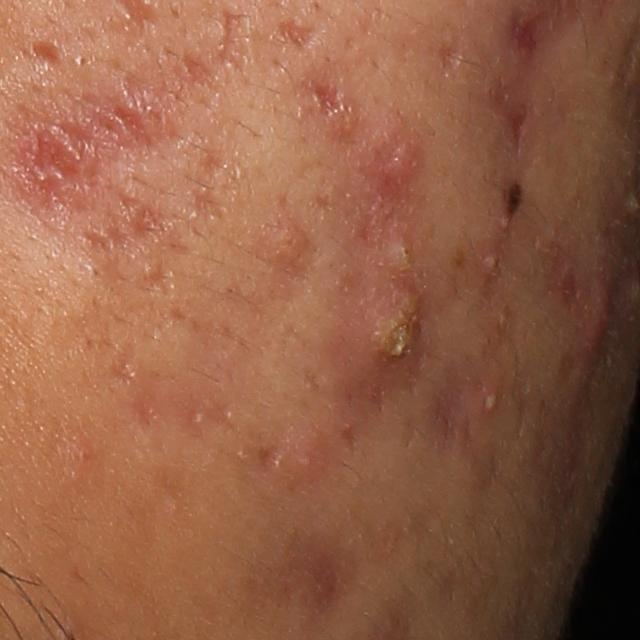atrophic_scar: (4, 9, 253, 215), (436, 351, 491, 439), (81, 193, 163, 249), (299, 65, 357, 131), (273, 10, 334, 47), (250, 428, 288, 481), (422, 32, 467, 75), (132, 256, 177, 296), (194, 183, 230, 220), (26, 40, 68, 71), (134, 392, 162, 437), (109, 349, 141, 383), (168, 306, 187, 322)
nevus: (504, 181, 526, 225)
nodule: (328, 275, 431, 406), (573, 254, 623, 369)
papule: (376, 135, 416, 200), (260, 218, 317, 263)
pustule: (376, 221, 422, 278), (477, 385, 503, 417), (478, 249, 503, 271)
